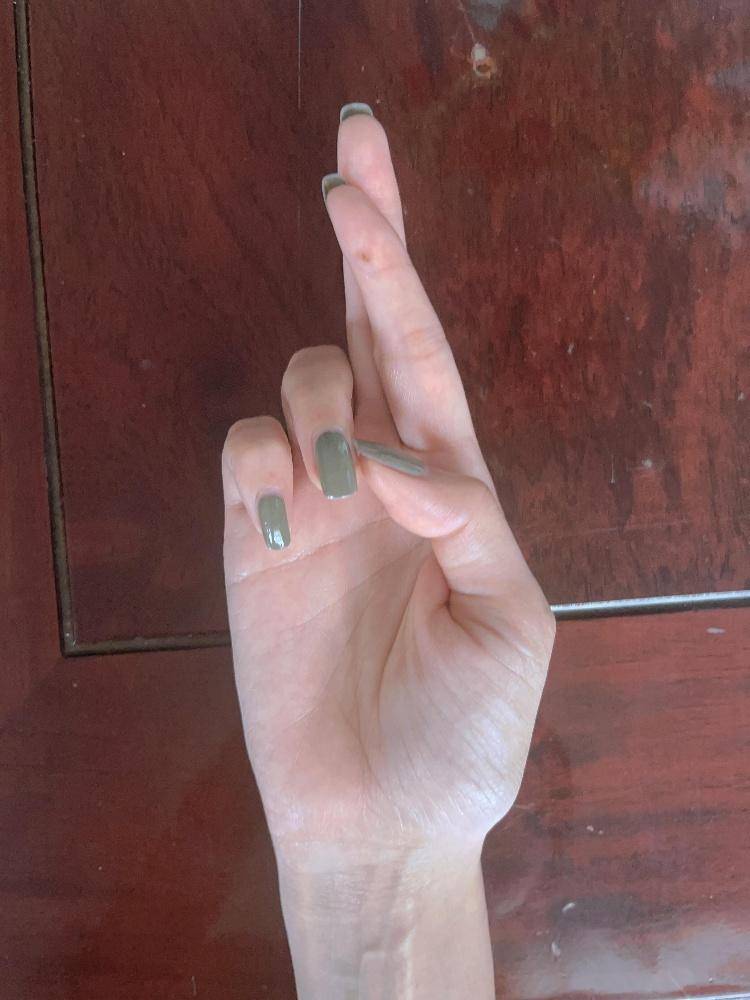r: (219, 102, 558, 838)
